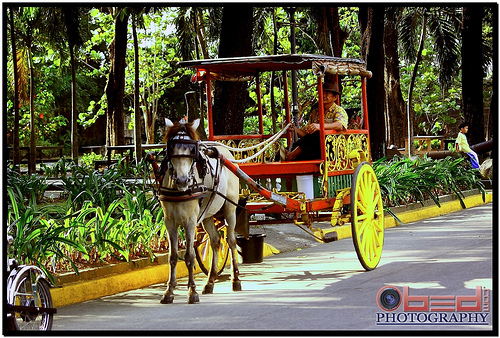horse: (149, 117, 246, 304)
